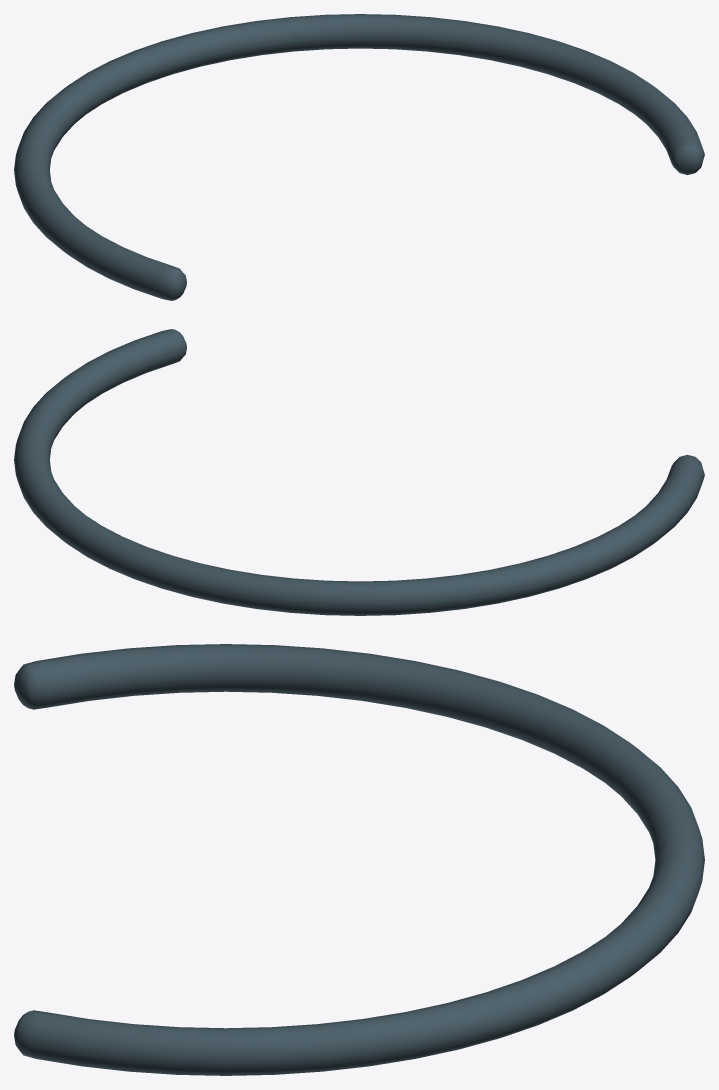
The model's file is InputIdentifier_Bumper_Glass.fbx.
3 renders of one model, top to bottom at view 1: azimuth 30°, elevation 25°; view 2: azimuth 150°, elevation 25°; view 3: azimuth 270°, elevation 25°, orthographic. The views are drawn at different scales.
Visible parts, largest first — view 1: InputIdentifier_InnerGlass; view 2: InputIdentifier_InnerGlass; view 3: InputIdentifier_InnerGlass.
Boxes of the visible parts, left/top/right/bottom form: InputIdentifier_InnerGlass: left=14, top=14, right=704, bottom=300; InputIdentifier_InnerGlass: left=14, top=329, right=704, bottom=615; InputIdentifier_InnerGlass: left=14, top=644, right=704, bottom=1075.
Bounding box in the file's own units: 15.27 × 0.7564 × 11.01.
